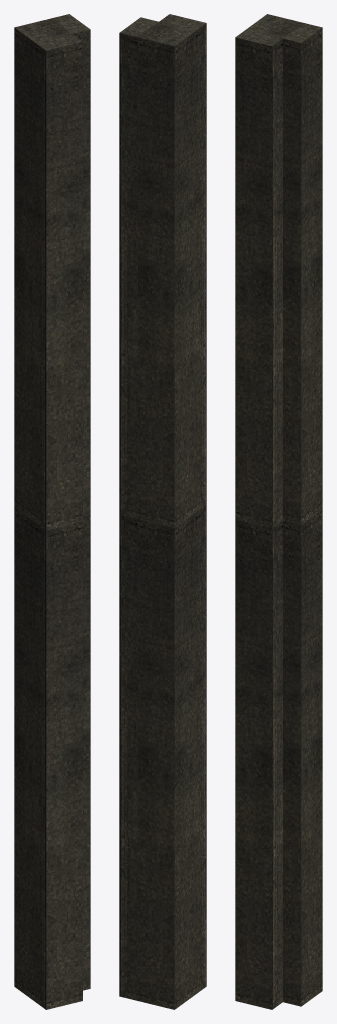
Rendered from metal_fence_hr_1_pillar_1_corner_tall.glb.
3 renders of one model, left to right at view 1: azimuth 30°, elevation 25°; view 2: azimuth 150°, elevation 25°; view 3: azimuth 330°, elevation 25°, orthographic.
Visible parts, largest first — view 1: metal_fence_hr_1_pillar_1_corner_tall; view 2: metal_fence_hr_1_pillar_1_corner_tall; view 3: metal_fence_hr_1_pillar_1_corner_tall.
Boxes of the visible parts, bbox=[...] form: metal_fence_hr_1_pillar_1_corner_tall: bbox=[14, 14, 90, 1009]; metal_fence_hr_1_pillar_1_corner_tall: bbox=[119, 14, 206, 1009]; metal_fence_hr_1_pillar_1_corner_tall: bbox=[235, 14, 322, 1009].
Bounding box in the file's own units: 0.3 × 5 × 0.3.
Materials: 1 (1 with a texture image).
